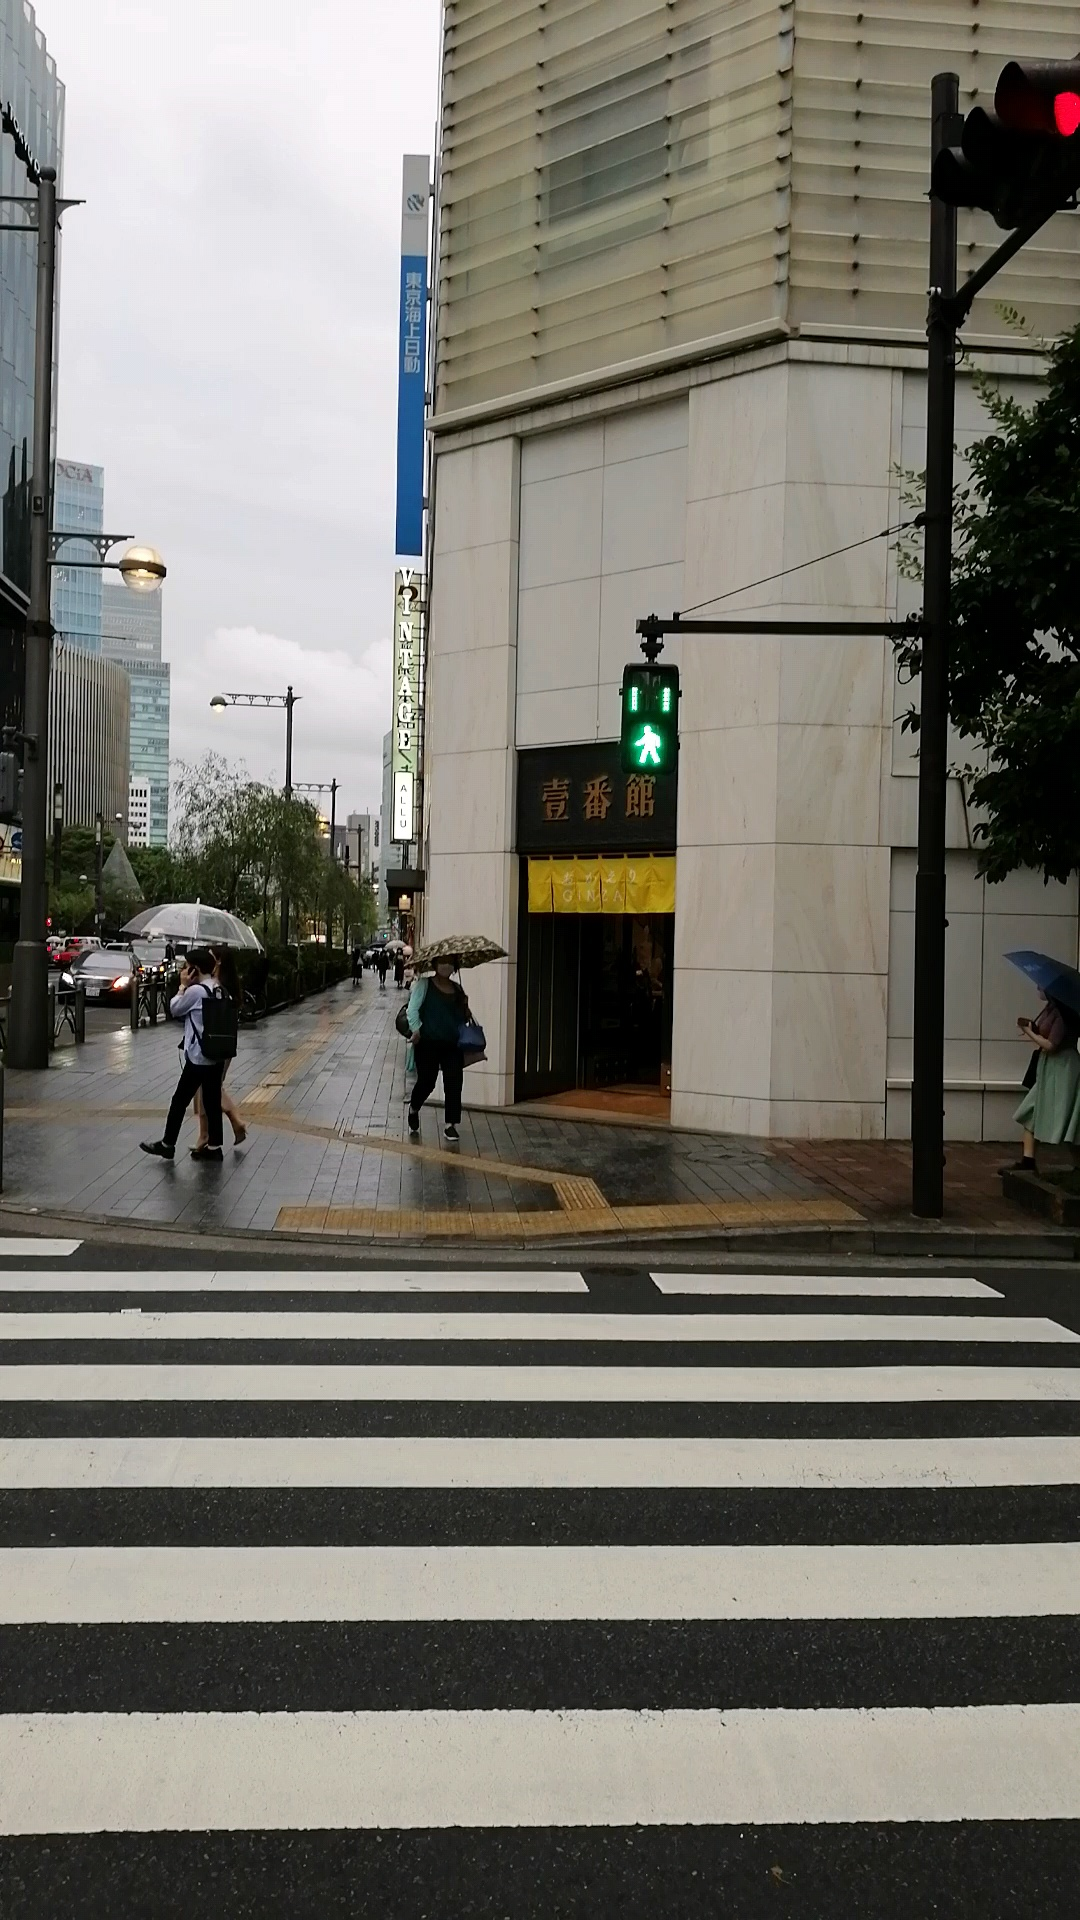green: (618, 661, 680, 775)
